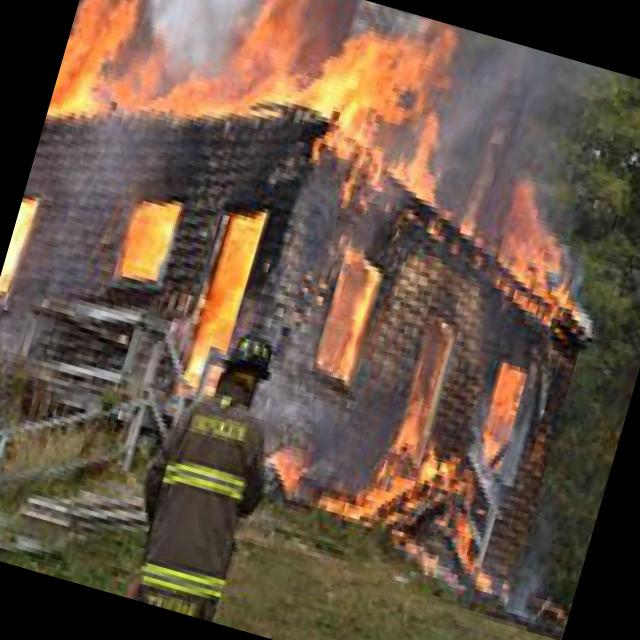fire: (46, 0, 455, 214), (333, 390, 511, 564), (180, 205, 266, 390), (489, 188, 609, 320), (0, 189, 48, 310)
smoke: (12, 117, 151, 336), (496, 486, 572, 628), (0, 308, 42, 408)
